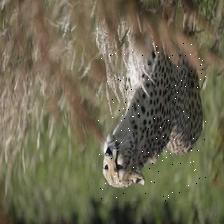Cheetha: (96, 40, 205, 200)
